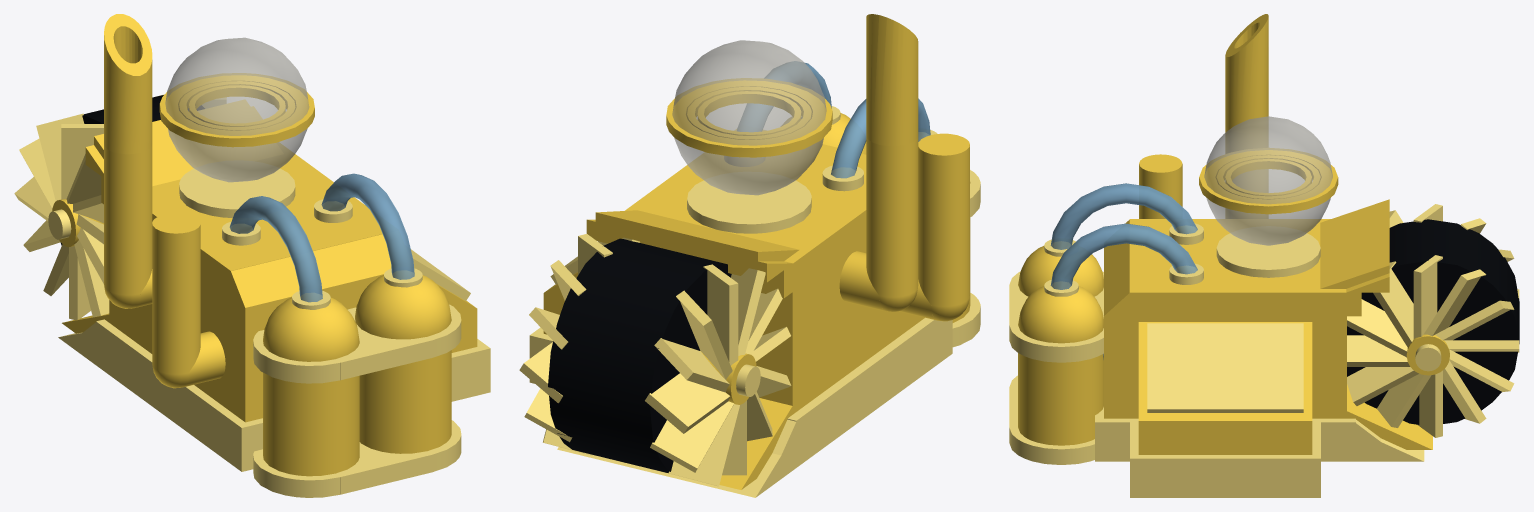
The model's file is weatrherMachine.obj.
3 renders of one model, left to right at view 1: azimuth 30°, elevation 25°; view 2: azimuth 150°, elevation 25°; view 3: azimuth 270°, elevation 25°, orthographic. The views are drawn at different scales.
Parts seen in each view (by area): view 1: Globe1, Part36, Part49, Mainpart1, Part45, Part37, Part4, Part7, Union11, Wedge3, Part34, Part46 (+36 smaller); view 2: Enginecolor1, Globe1, Part36, Mainpart1, Part4, Part37, Part7, Union11, Part34, Wedge6, Frame1, Part23 (+33 smaller); view 3: Screen1, Part36, Enginecolor1, Globe1, Part35, Mainpart1, Part45, Part1, Wedge6, Union11, Part34, Part46 (+33 smaller).
Part boxes in pixels (x1,y1,x2,y2): Globe1: (165, 37, 309, 182); Part36: (101, 142, 382, 297); Part49: (263, 372, 359, 476); Mainpart1: (109, 274, 383, 422); Part45: (359, 350, 451, 453); Part37: (96, 319, 262, 471); Part4: (152, 213, 200, 374); Part7: (104, 144, 152, 294); Union11: (104, 14, 152, 154); Wedge3: (230, 234, 391, 307); Part34: (179, 160, 295, 217); Part46: (355, 275, 451, 339); Enginecolor1: (548, 238, 731, 472); Globe1: (672, 40, 826, 195); Part36: (625, 129, 866, 298); Mainpart1: (756, 238, 924, 413); Part4: (918, 133, 969, 306); Part37: (787, 317, 952, 467); Part7: (866, 135, 918, 297); Union11: (866, 14, 918, 146); Part34: (687, 172, 811, 233); Wedge6: (595, 210, 799, 275); Frame1: (666, 78, 832, 157); Part23: (645, 373, 730, 433); Screen1: (1147, 323, 1303, 412); Part36: (1129, 219, 1361, 316); Enginecolor1: (1347, 219, 1519, 424); Globe1: (1204, 116, 1332, 245); Part35: (1130, 422, 1320, 497); Mainpart1: (1104, 316, 1346, 418); Part45: (1018, 353, 1103, 445); Part1: (1138, 421, 1312, 454); Wedge6: (1320, 199, 1389, 288); Union11: (1225, 14, 1268, 132); Part34: (1216, 226, 1320, 277); Part46: (1018, 286, 1103, 343).
Bounding box in the file's own units: 11.34 × 13.43 × 17.62.
